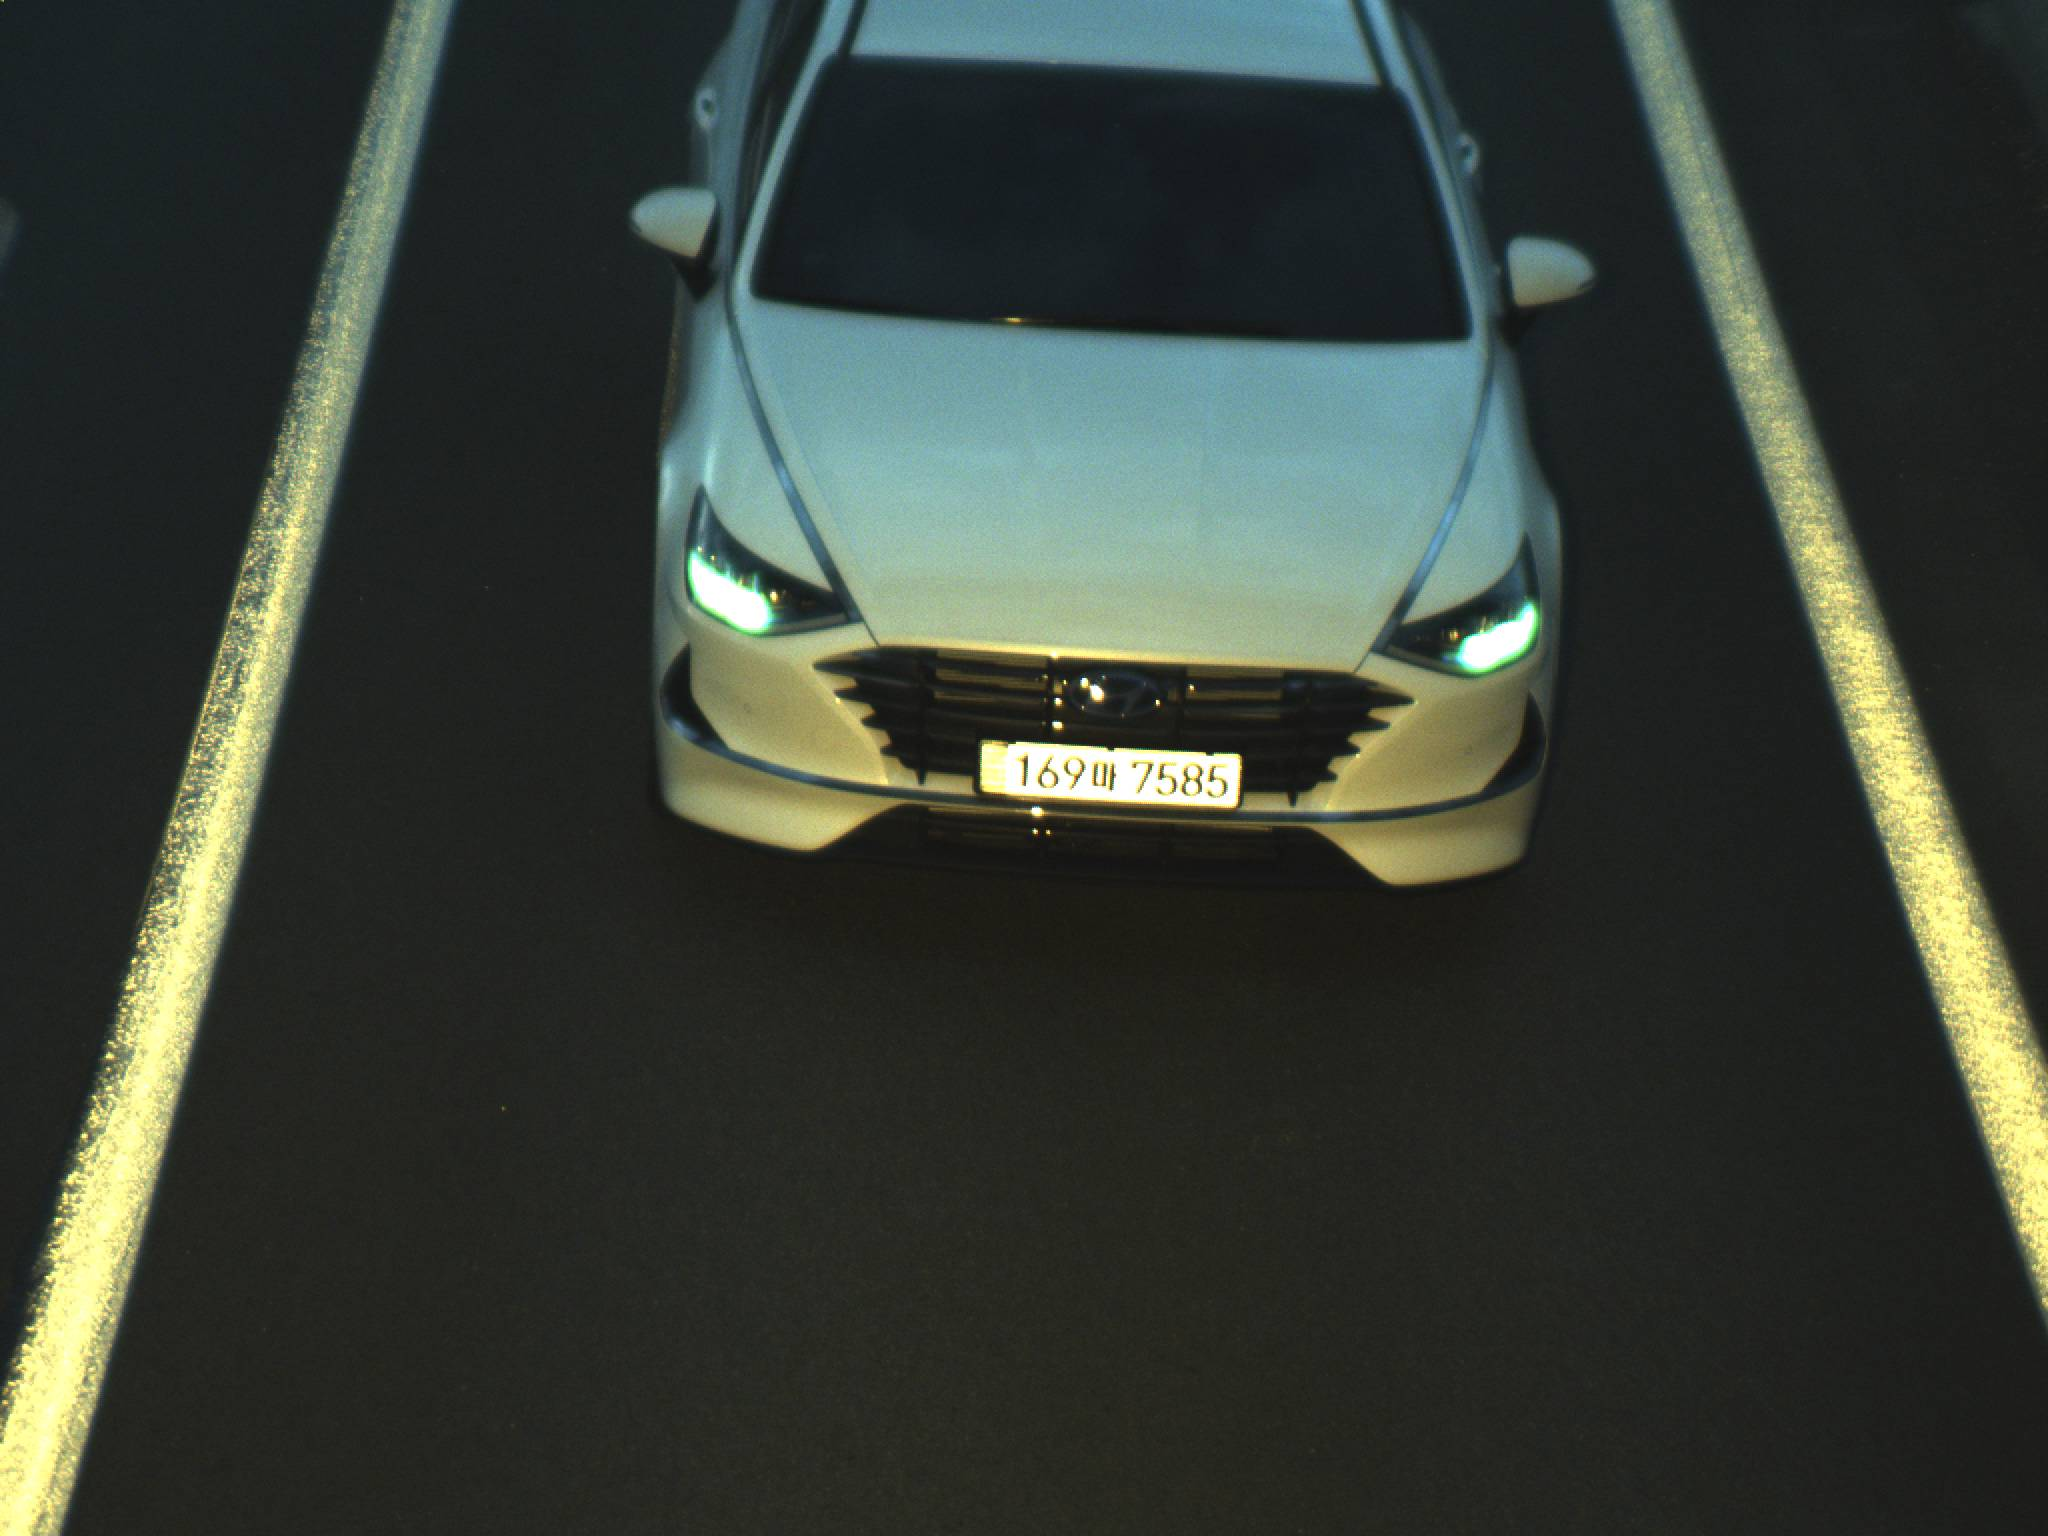car: (621, 1, 1604, 915)
plate: (974, 732, 1246, 813)
